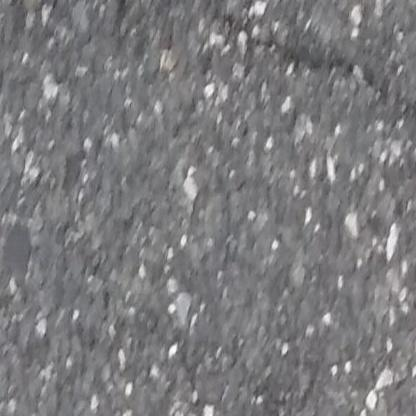Cracks: (207, 9, 416, 134)
